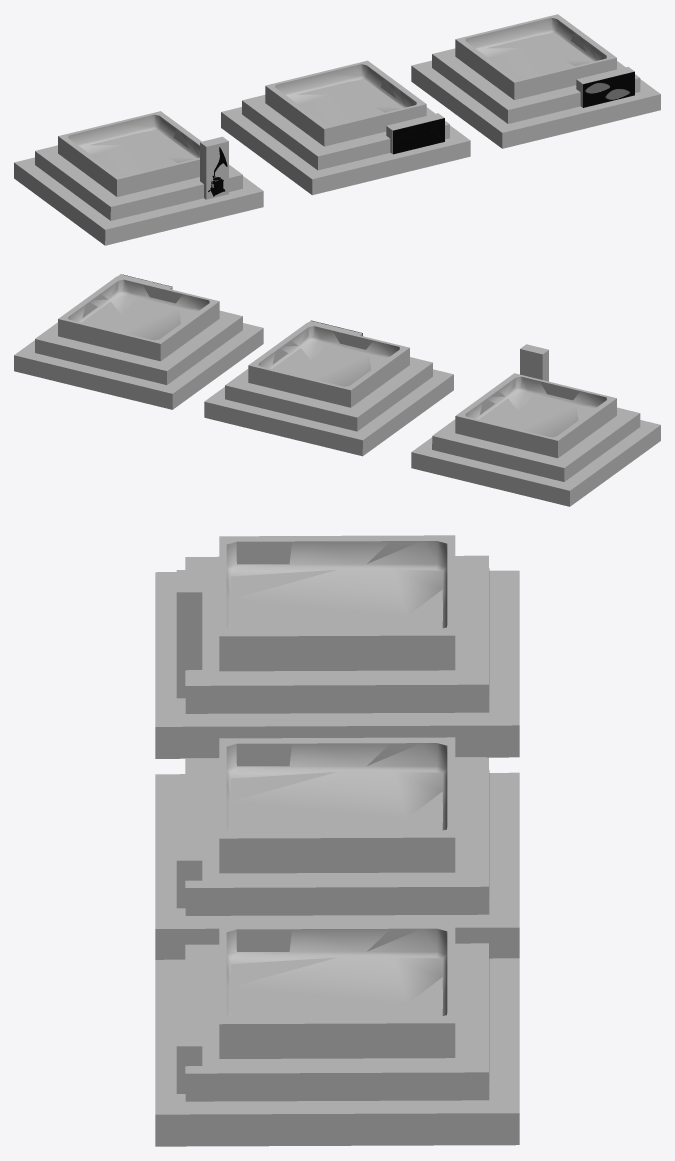
The model's file is Suporte1.fbx.
3 views of the same model, one above another, from view 1: azimuth 30°, elevation 25°; view 2: azimuth 150°, elevation 25°; view 3: azimuth 270°, elevation 25° (orthographic). The views are drawn at different scales.
Visible parts, largest first — view 1: Suporte_Gramofone, Suporte_oculos, Suporte_Microfone, Suporte_oculos.001, Suporte_Microfone.001, Suporte_Gramofone.001; view 2: Suporte_Gramofone, Suporte_oculos, Suporte_Microfone; view 3: Suporte_oculos, Suporte_Gramofone, Suporte_Microfone.
Boxes of the visible parts, box(x1,y1,x2,y2) form: Suporte_Gramofone: box(14, 111, 263, 245); Suporte_oculos: box(411, 14, 660, 148); Suporte_Microfone: box(221, 60, 470, 195); Suporte_oculos.001: box(583, 71, 634, 107); Suporte_Microfone.001: box(393, 118, 444, 154); Suporte_Gramofone.001: box(208, 147, 227, 196); Suporte_Gramofone: box(411, 344, 660, 506); Suporte_oculos: box(14, 274, 263, 409); Suporte_Microfone: box(204, 321, 453, 456); Suporte_oculos: box(155, 923, 519, 1146); Suporte_Gramofone: box(155, 535, 519, 758); Suporte_Microfone: box(155, 737, 519, 959).
Bounding box in the file's own units: 32007 × 3799 × 9088.
